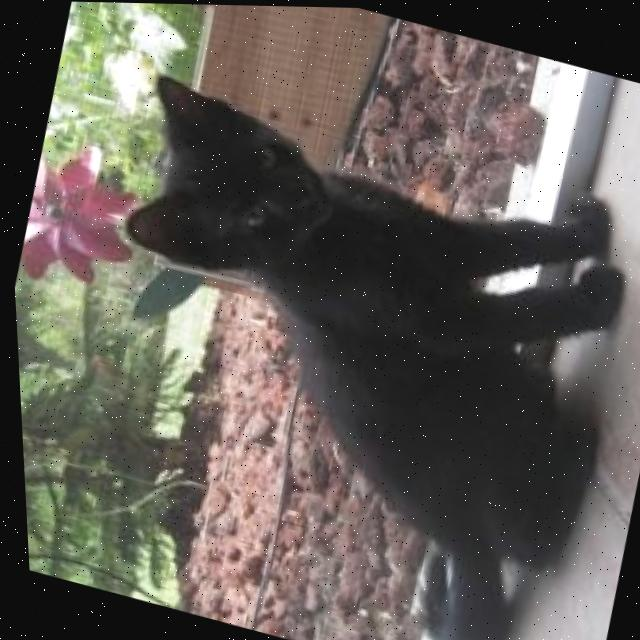Bombay: (27, 66, 640, 640)
